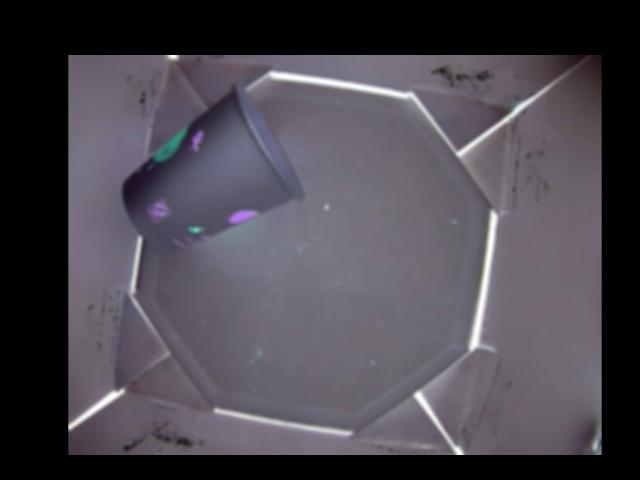Cup: (118, 85, 309, 249)
